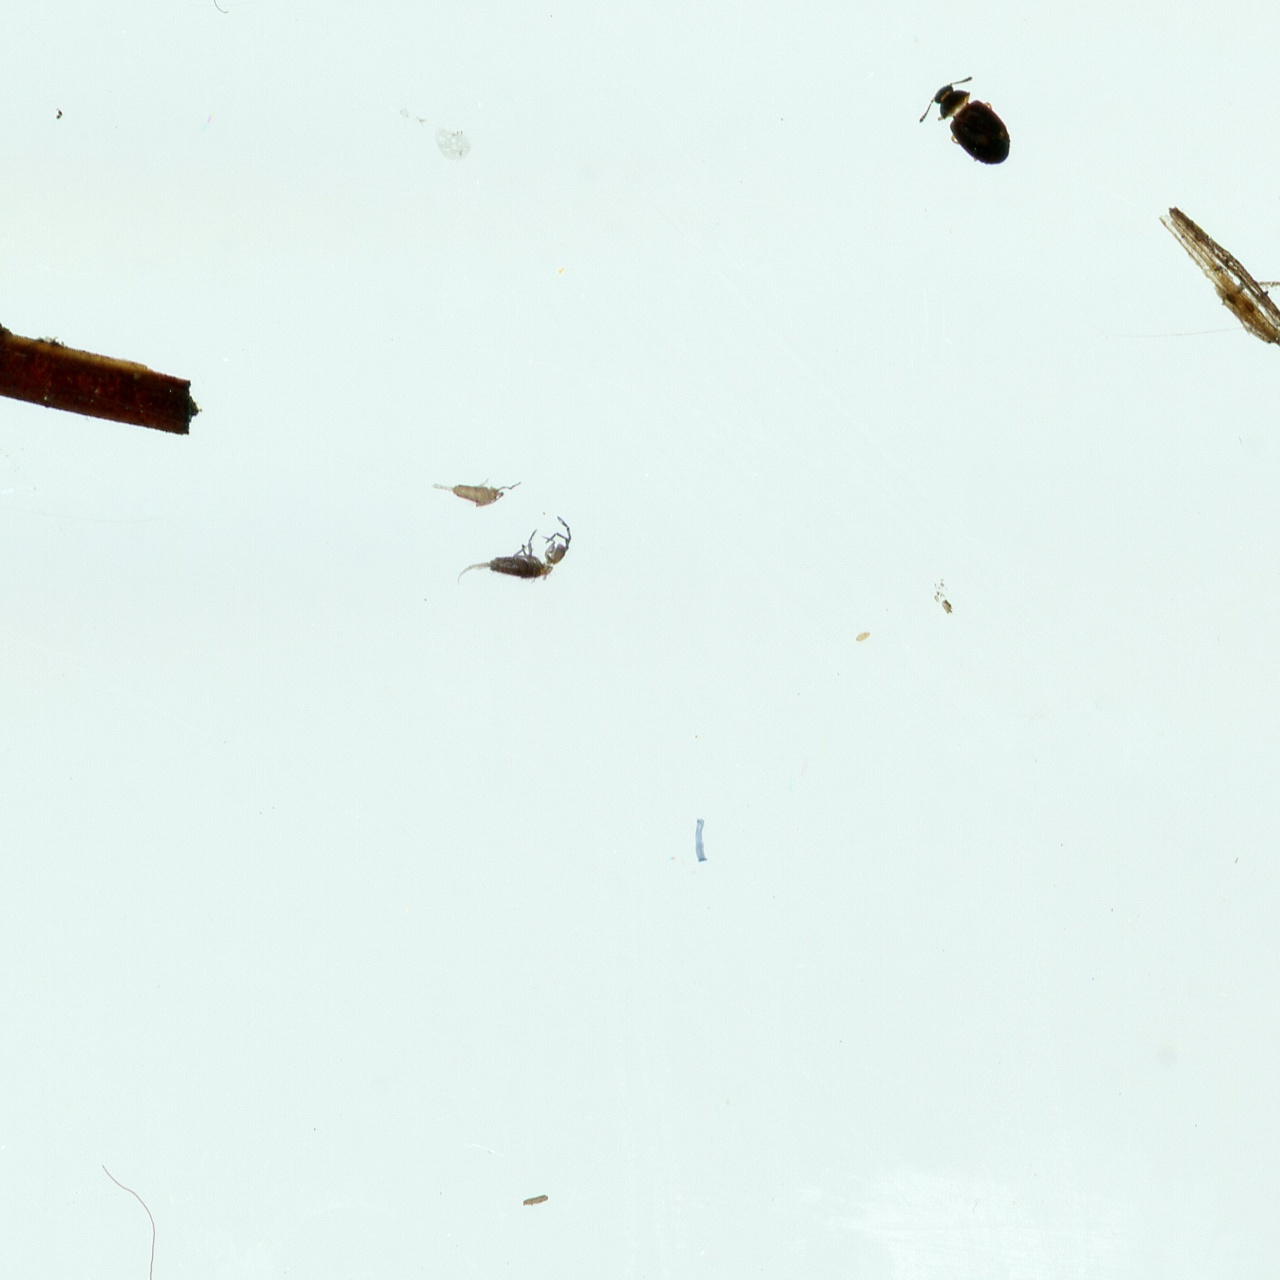arthropod: (449, 509, 578, 600), (917, 73, 1023, 169), (429, 477, 523, 509)
